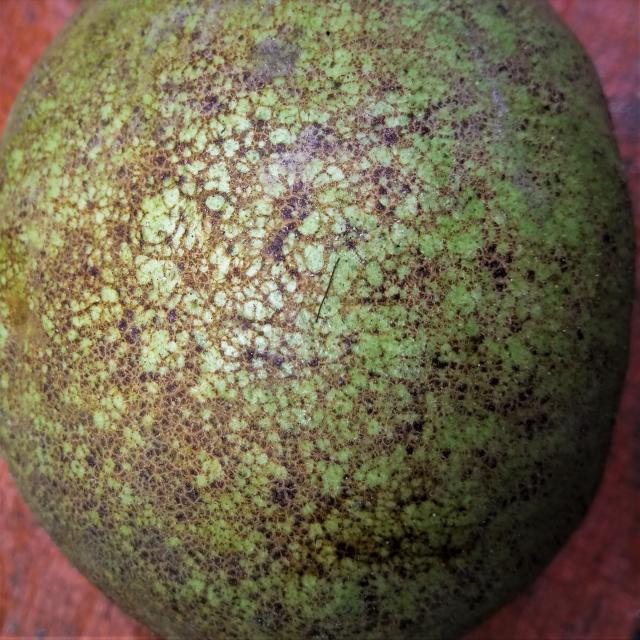Scab: (0, 1, 634, 637)
